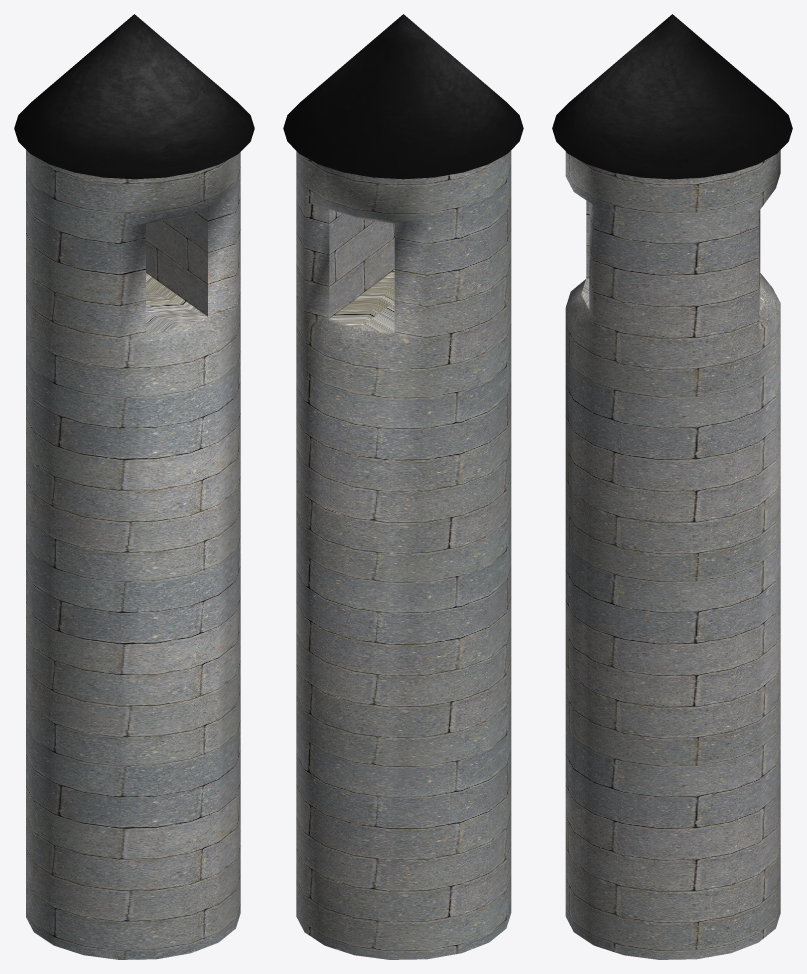
File: CastleT3.FBX
The picture shows the model from 3 angles, left to right: view 1: azimuth 30°, elevation 25°; view 2: azimuth 150°, elevation 25°; view 3: azimuth 270°, elevation 25°; orthographic projection.
Visible parts, largest first — view 1: CircleTower001, Cone001; view 2: CircleTower001, Cone001; view 3: CircleTower001, Cone001.
Boxes of the visible parts, x1,y1,x2,y2 form: CircleTower001: (26, 150, 240, 959); Cone001: (14, 14, 254, 179); CircleTower001: (296, 150, 511, 959); Cone001: (283, 14, 523, 179); CircleTower001: (565, 150, 780, 959); Cone001: (552, 14, 792, 179).
Size of the model in its own units: 53 by 219 by 53.
